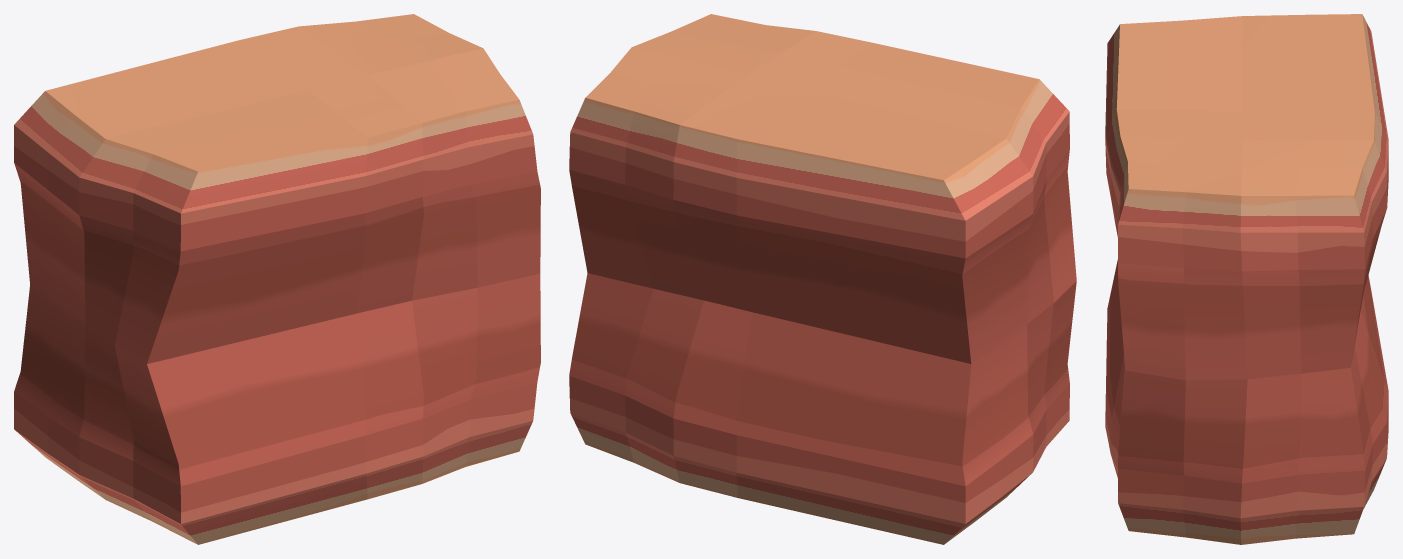
Rendered from M_Level_1_v2.fbx.
The picture shows the model from 3 angles, left to right: view 1: azimuth 30°, elevation 25°; view 2: azimuth 150°, elevation 25°; view 3: azimuth 270°, elevation 25°; orthographic projection. The views are drawn at different scales.
Parts seen in each view (by area): view 1: M_Level_1_v2; view 2: M_Level_1_v2; view 3: M_Level_1_v2.
Boxes of the visible parts, x1=… form: M_Level_1_v2: x1=14, y1=14, x2=540, y2=544; M_Level_1_v2: x1=569, y1=14, x2=1076, y2=544; M_Level_1_v2: x1=1105, y1=14, x2=1388, y2=544.
Size of the model in its own units: 556 by 473 by 335.
1 material, 1 textured.
